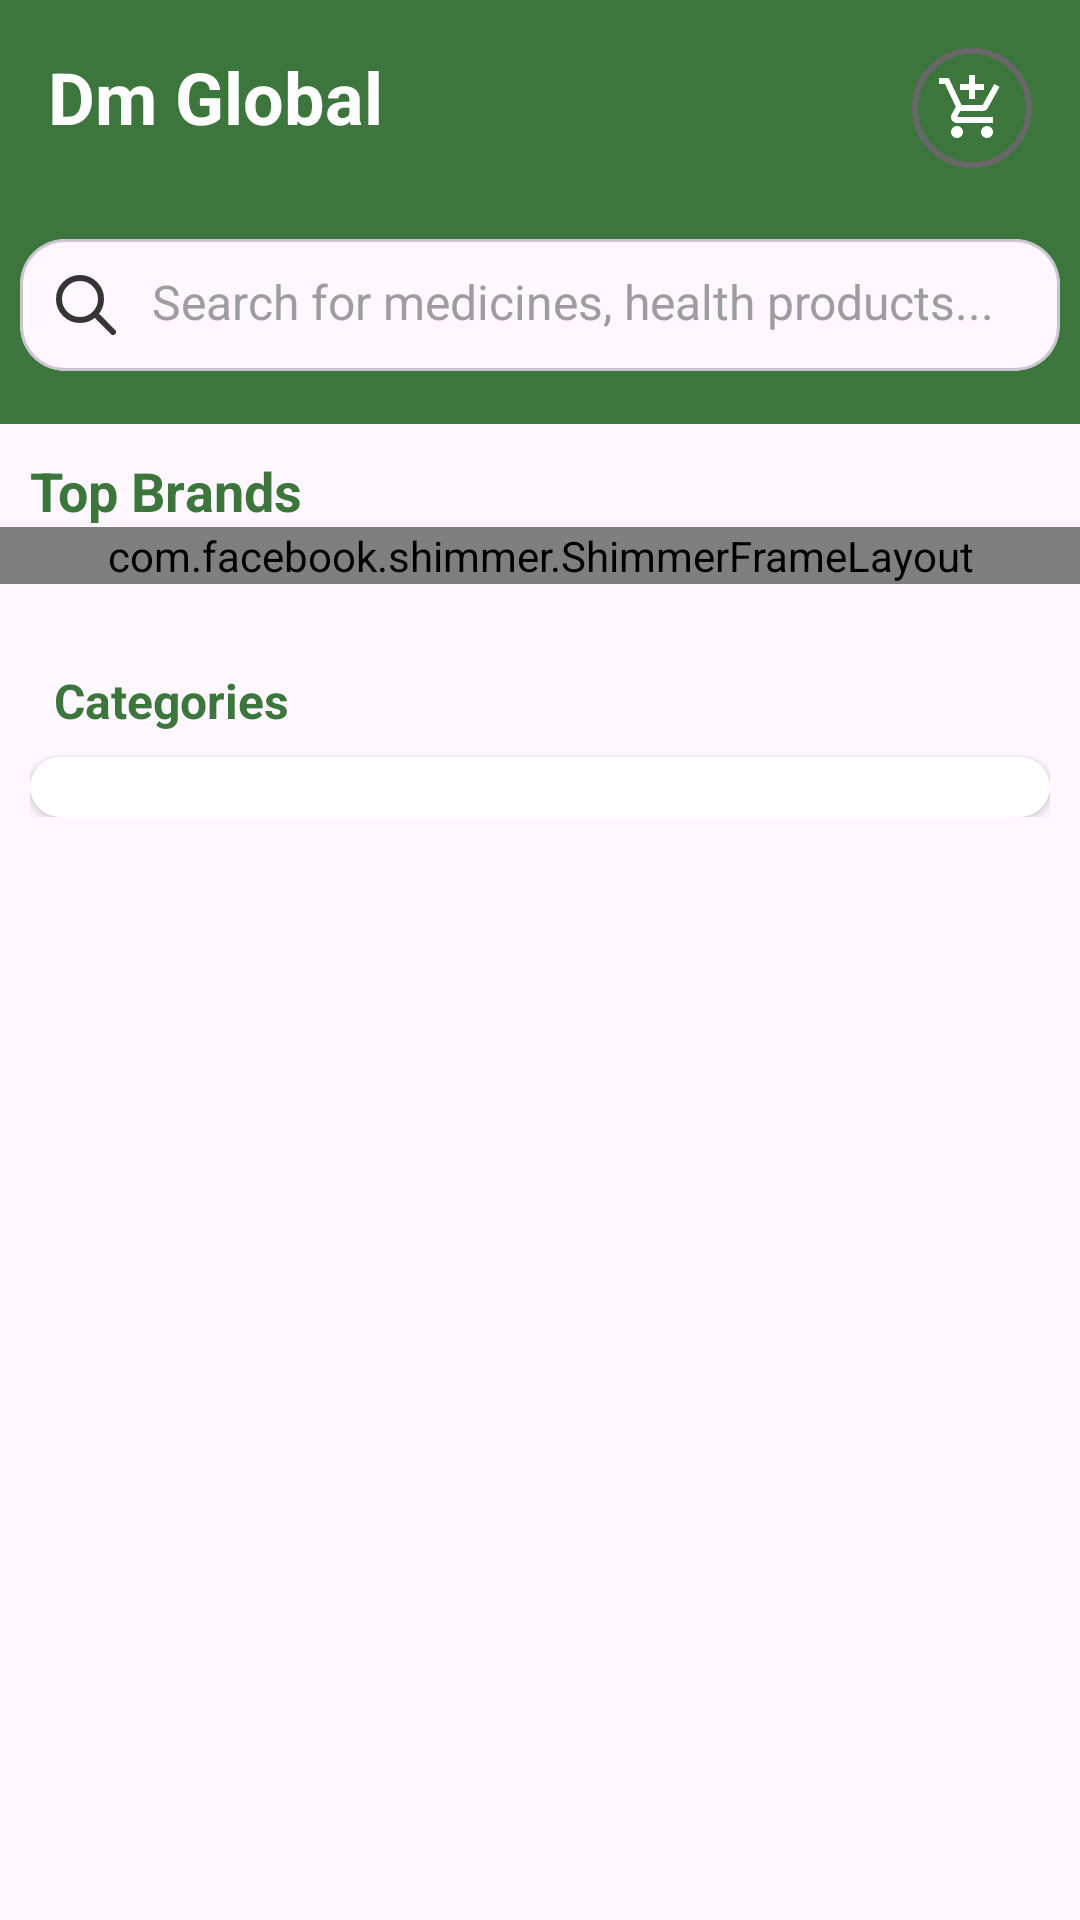

Where icons sit on this 1080×1920 app screen, as Rect(x1, y1, x2, y2):
add shopping cart: Rect(912, 48, 1032, 168)
